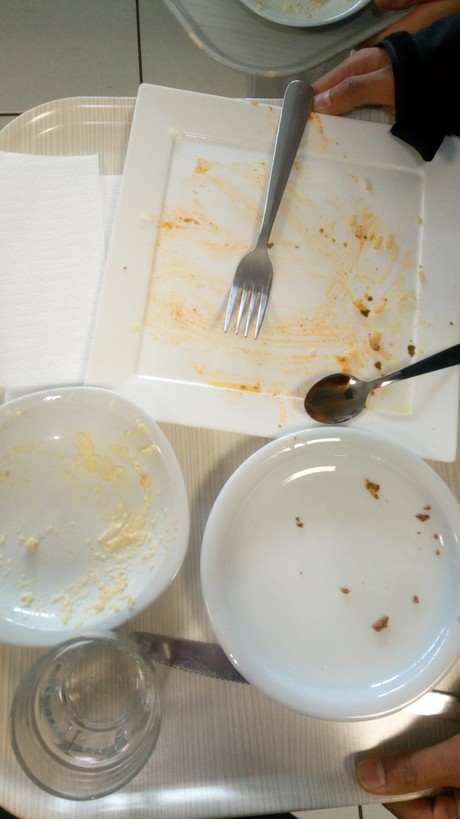cup: (1, 633, 155, 763)
cutlery: (220, 78, 323, 350), (299, 339, 459, 425)
trash: (11, 143, 106, 389)
